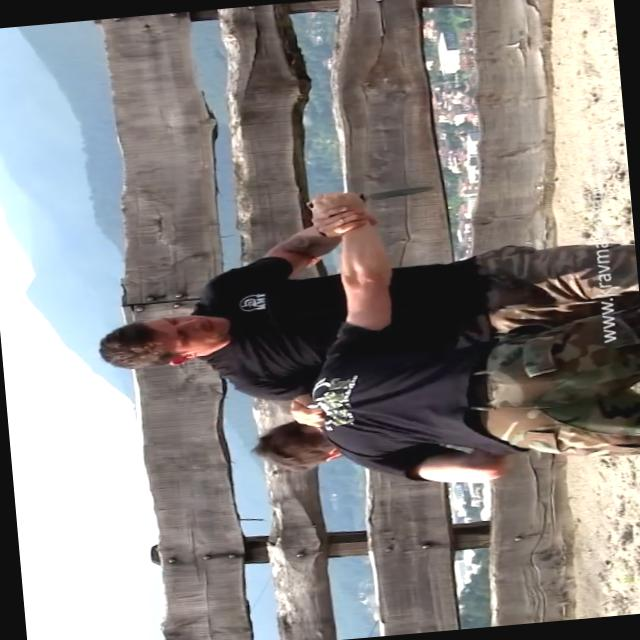knife: (297, 178, 443, 215)
